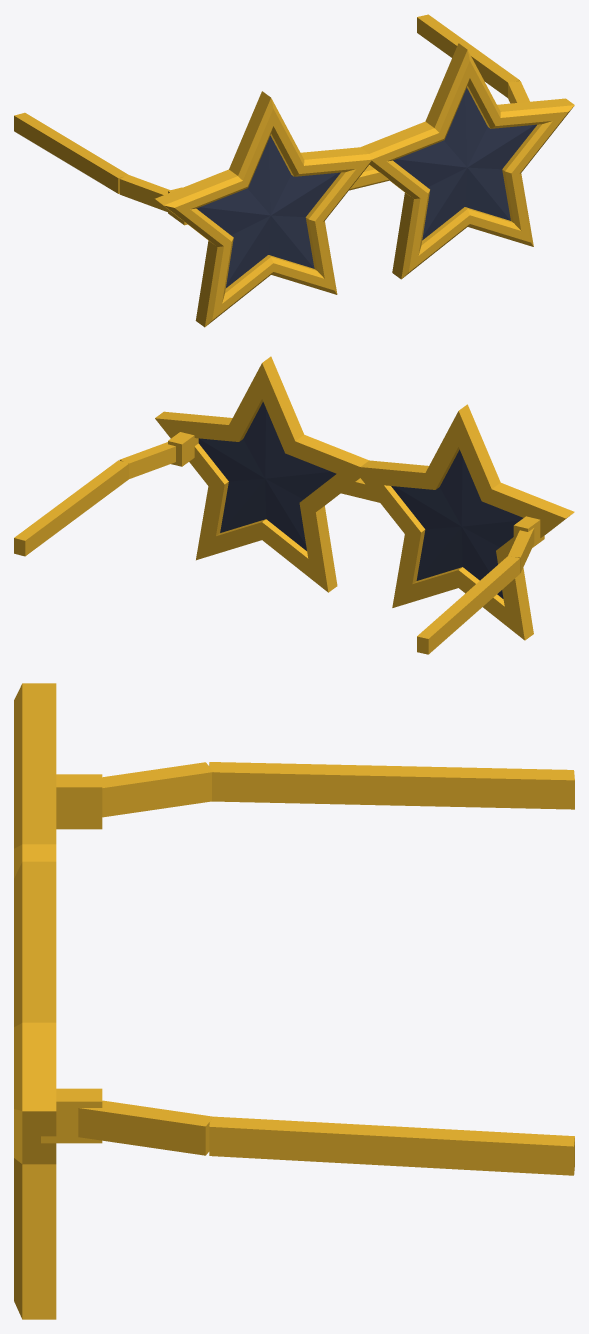
The model's file is Gold_Star_Glasses.fbx.
3 renders of one model, top to bottom at view 1: azimuth 30°, elevation 25°; view 2: azimuth 150°, elevation 25°; view 3: azimuth 270°, elevation 25°, orthographic. The views are drawn at different scales.
Parts seen in each view (by area): view 1: Gold_Star_Glasses; view 2: Gold_Star_Glasses; view 3: Gold_Star_Glasses.
Boxes of the visible parts, left/top/right/bottom form: Gold_Star_Glasses: left=14, top=14, right=574, bottom=327; Gold_Star_Glasses: left=14, top=356, right=574, bottom=654; Gold_Star_Glasses: left=14, top=683, right=574, bottom=1319.
Size of the model in its own units: 0.2321 by 0.1143 by 0.1461.
